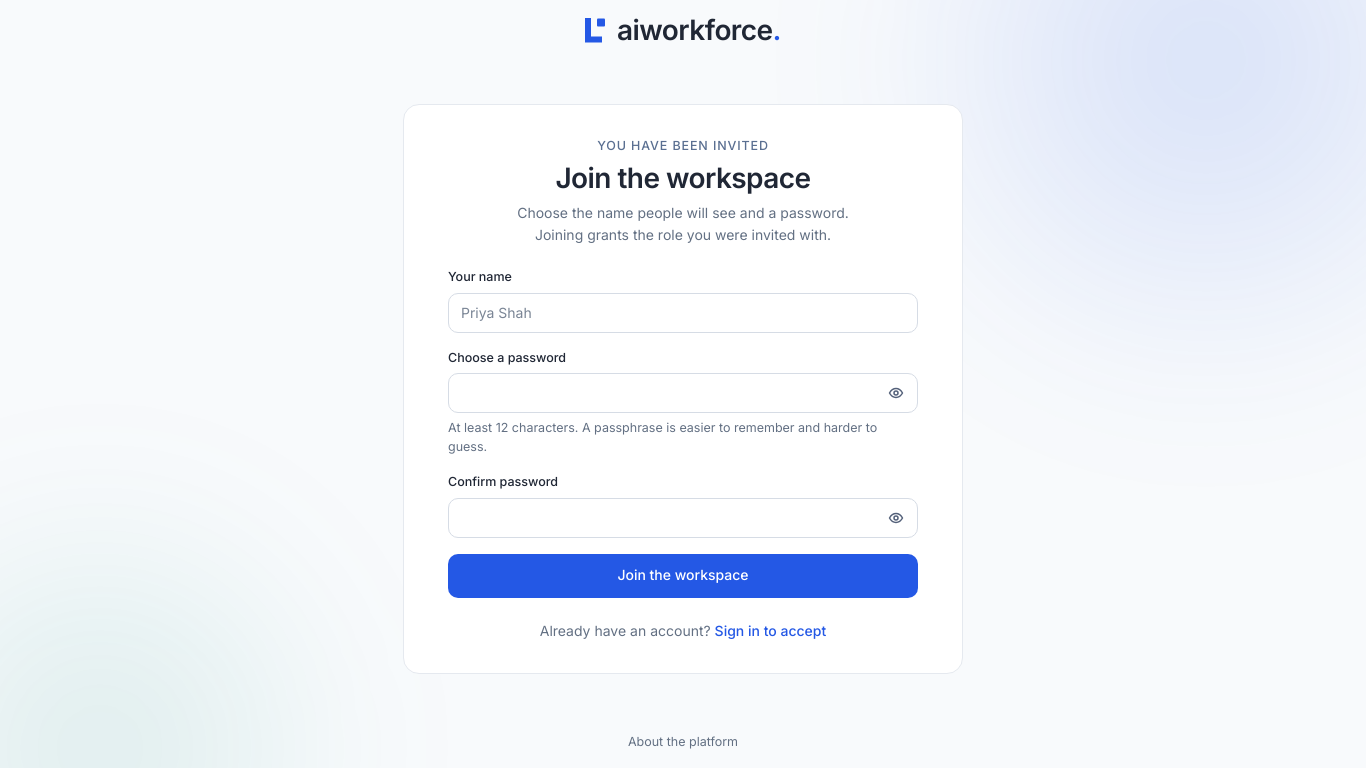
Test: AcceptInvite › says the person is in and moves focus to that heading once joined
This screenshot has width=1366, height=768.
Type "Rita Returning" into the field labelled "Your name" at (683, 312), box 448,292 -> 918,332
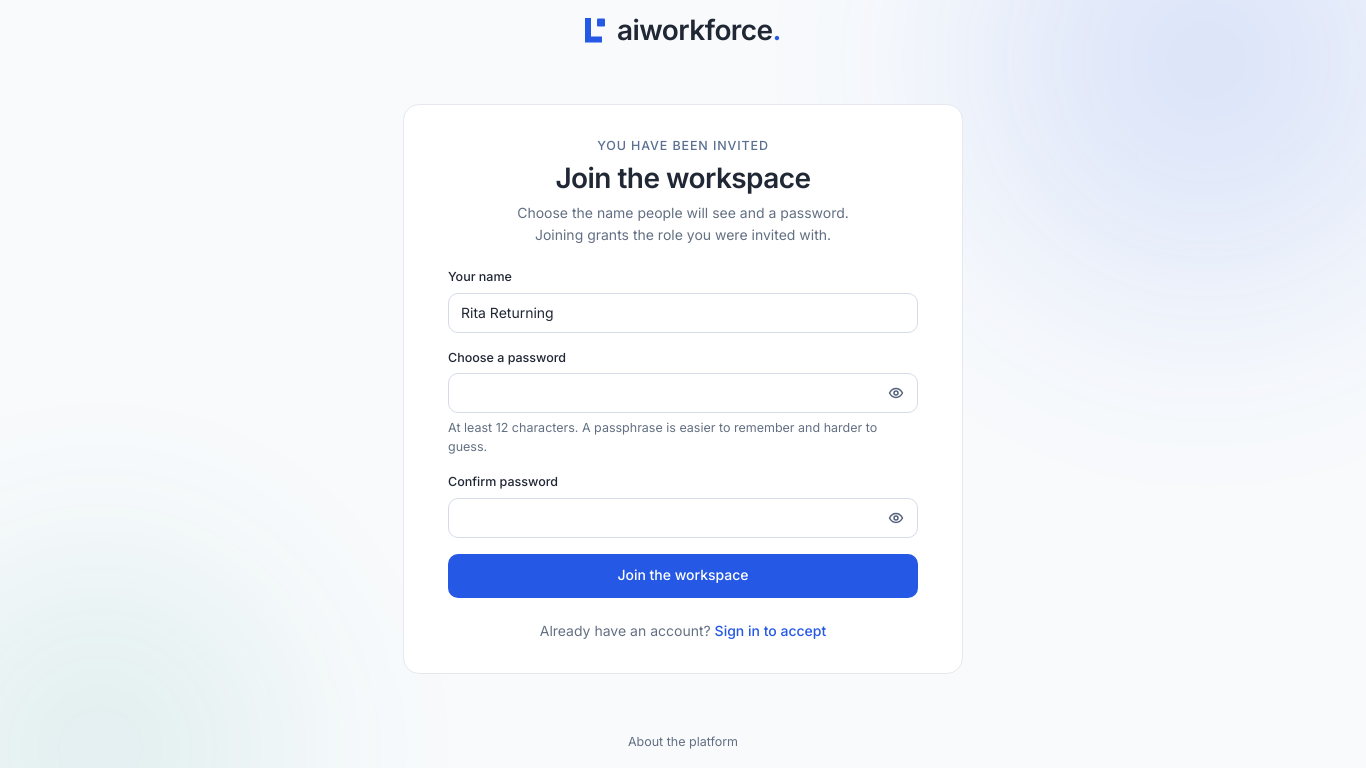
Type "correct horse battery" into the password field labelled "Choose a password" at (683, 393), box 448,373 -> 918,413
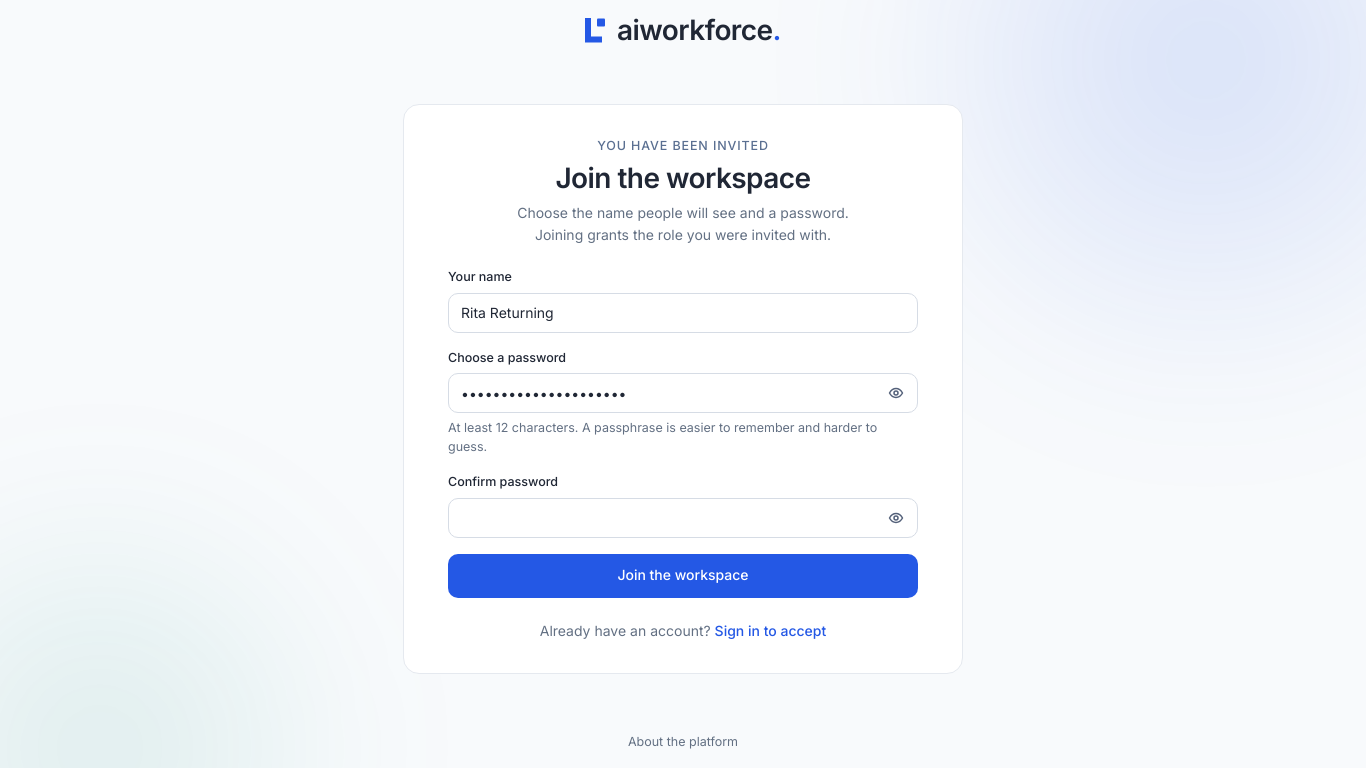
Type "correct horse battery" into the password field labelled "Confirm password" at (683, 518), box 448,498 -> 918,538
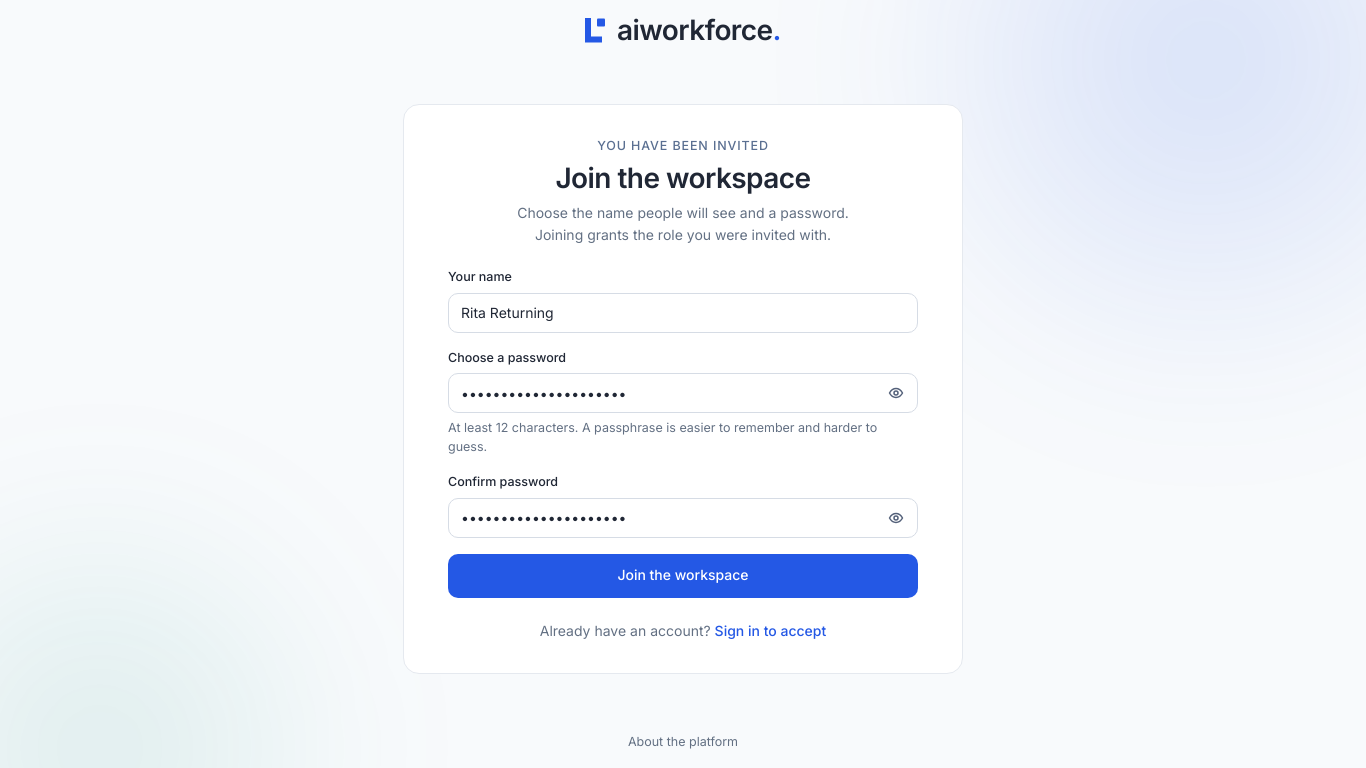
Click the button "Join the workspace" at (683, 576), box 448,554 -> 918,598
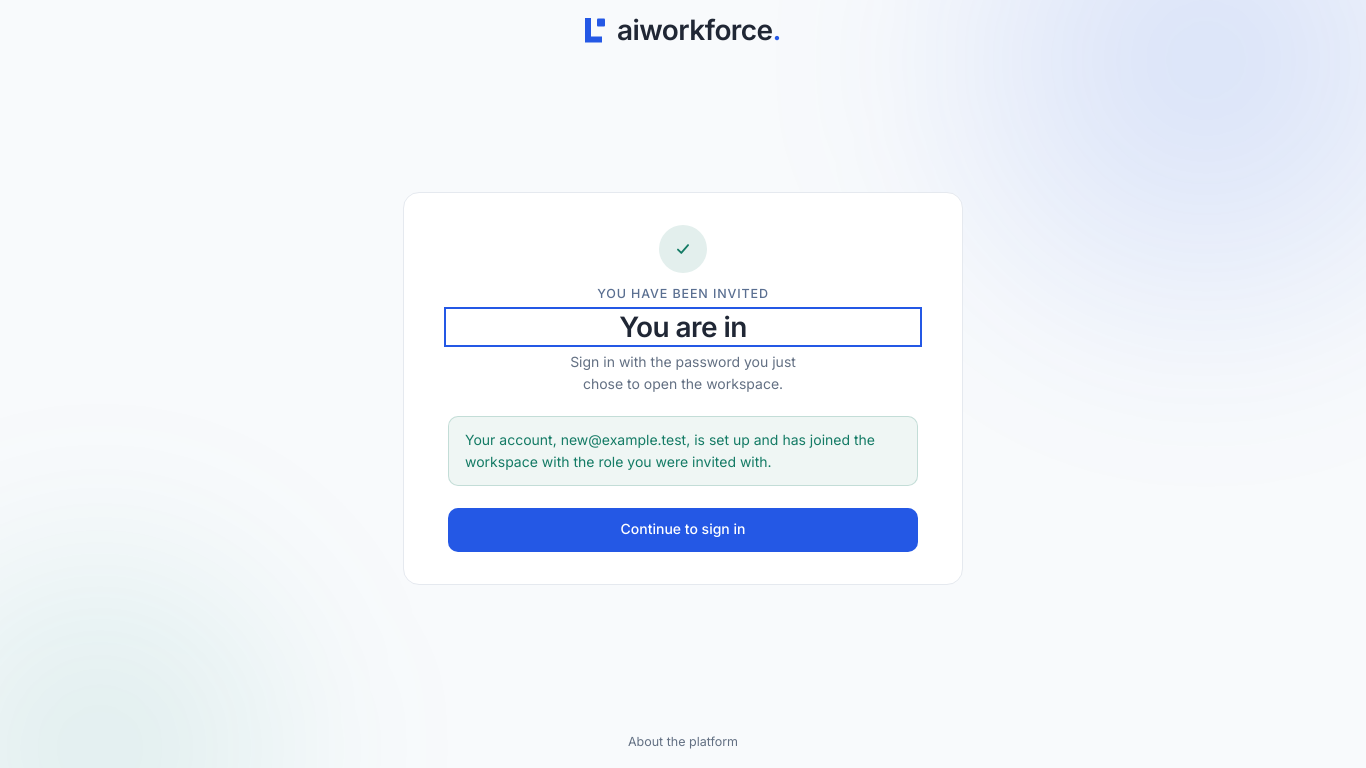
Now the text "Your account, new@example.test, is set up and has joined the workspace with the role you were invited with." is shown, box 465,430 -> 901,473
Now the button "Continue to sign in" is shown, box 448,508 -> 918,552
